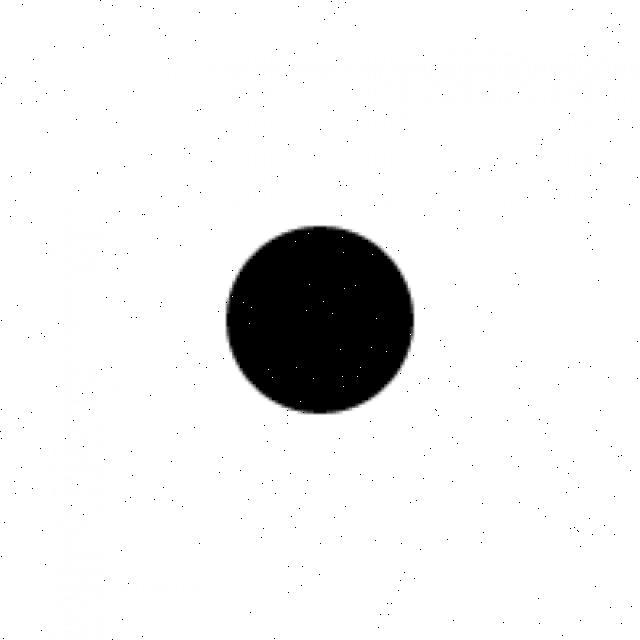Circle: (228, 226, 412, 412)
